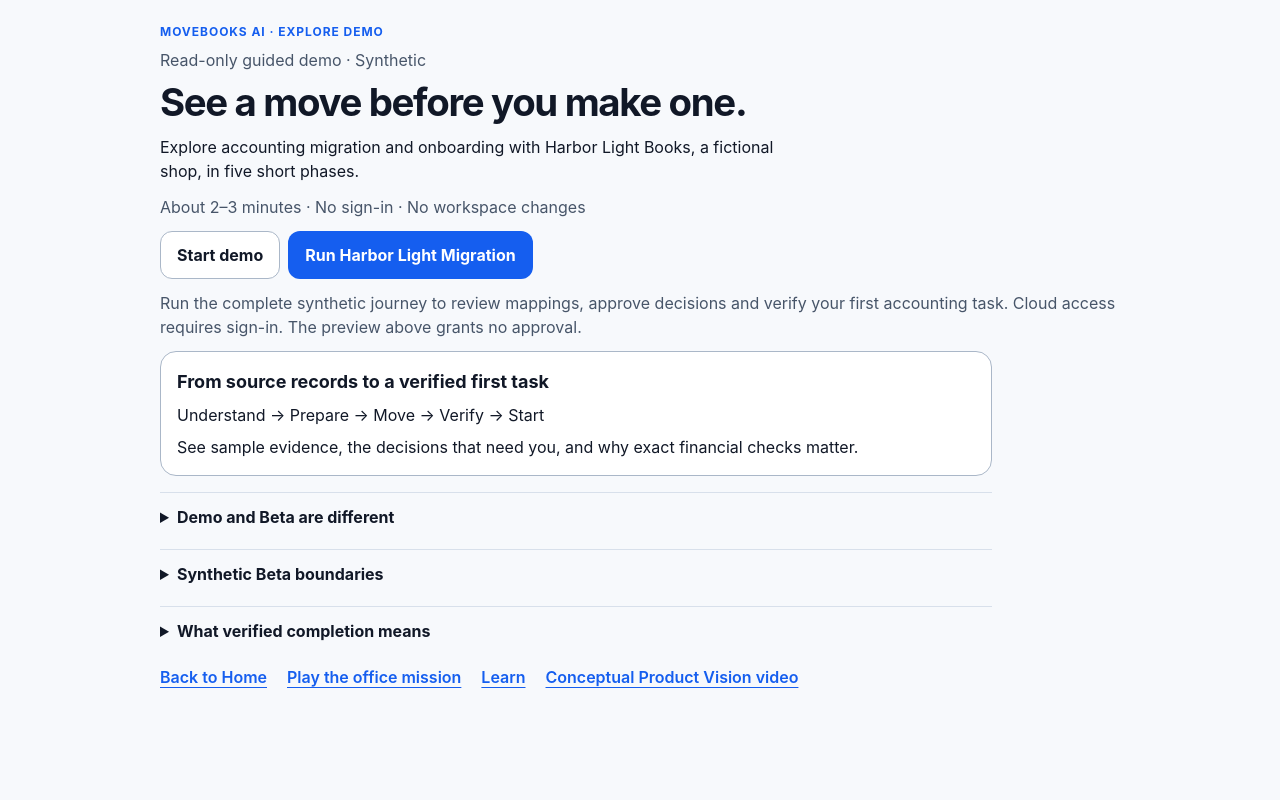
it: PR03 authored public Demo › labels authored amounts and separates controls from AI advice
The width and height of the screenshot is (1280, 800).
Click the button "Start demo": (220, 255) [160,231,280,279]
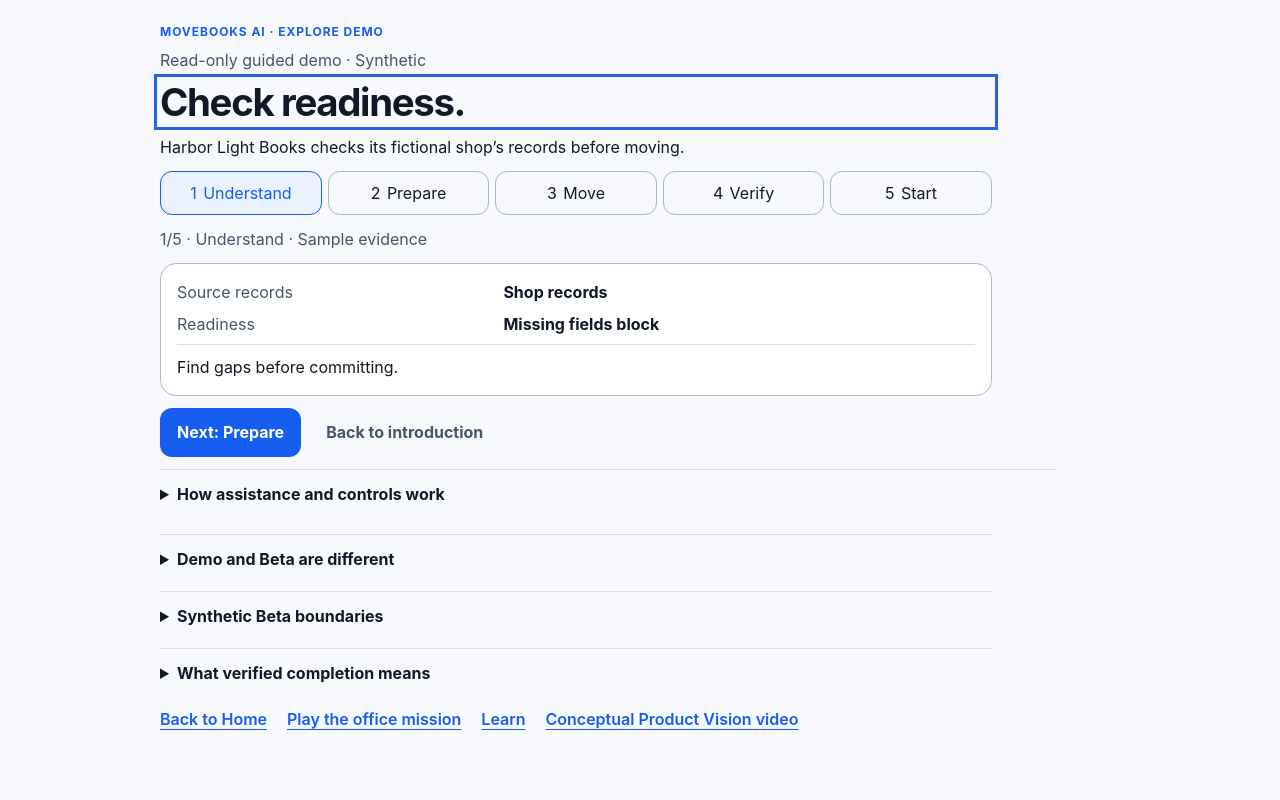
Click the button with aria-label "Preview Verify, phase 4 of 5": (743, 193) [662,171,824,215]
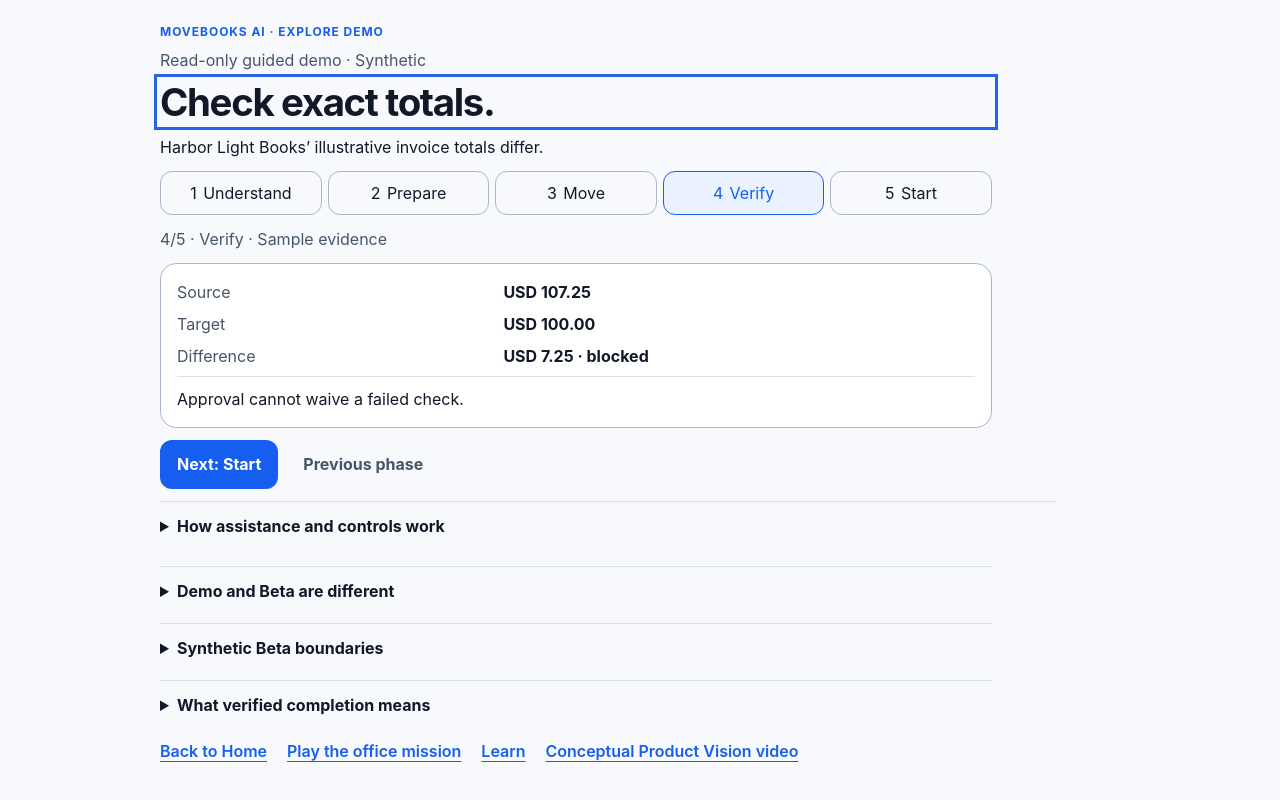
Expected: the text "4/5 · Verify · Sample evidence" is shown, [160,229,387,249]
Expected: the text "USD 7.25 · blocked" is shown, [503,346,649,366]
Click the heading "How assistance and controls work": (311, 526) [177,516,445,536]
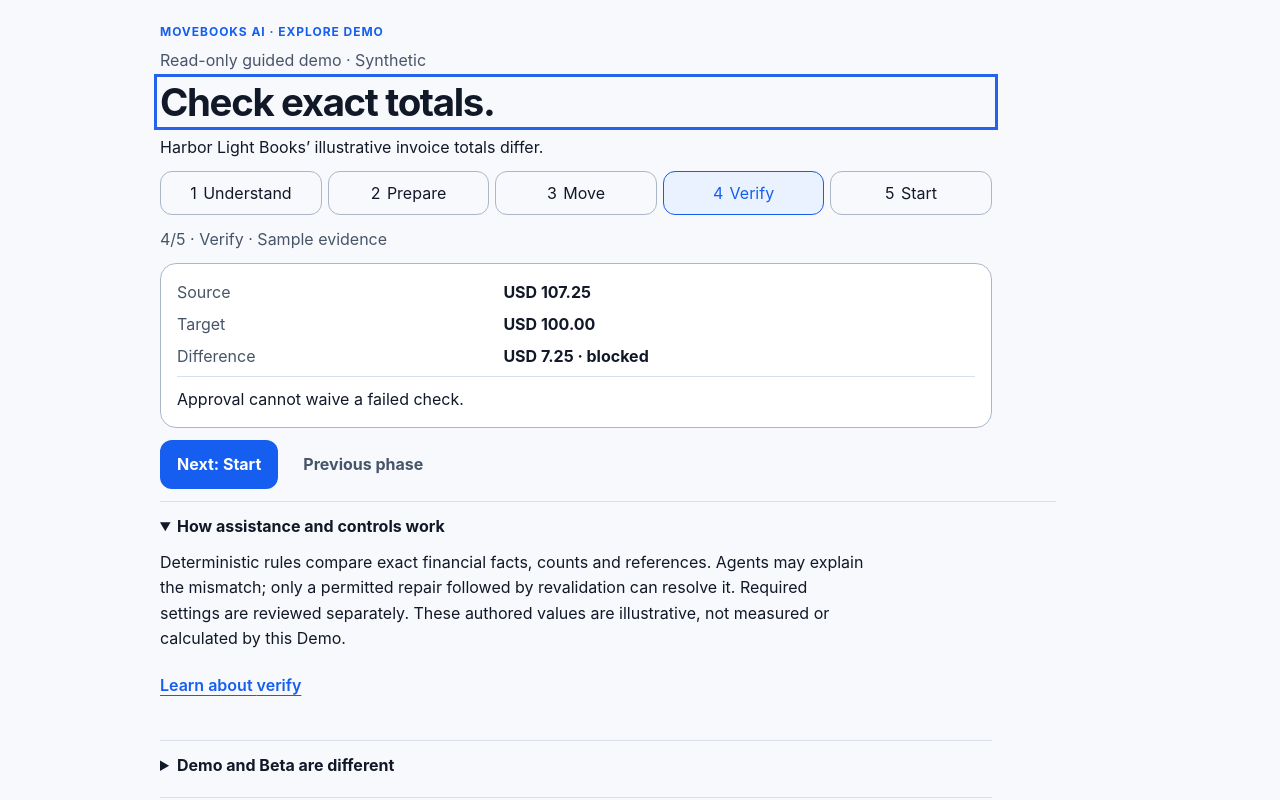
Expected: the text "not measured or calculated by this Demo" is shown, [160,552,863,648]
Click the button with aria-label "Preview Prepare, phase 2 of 5": (408, 193) [328,171,489,215]
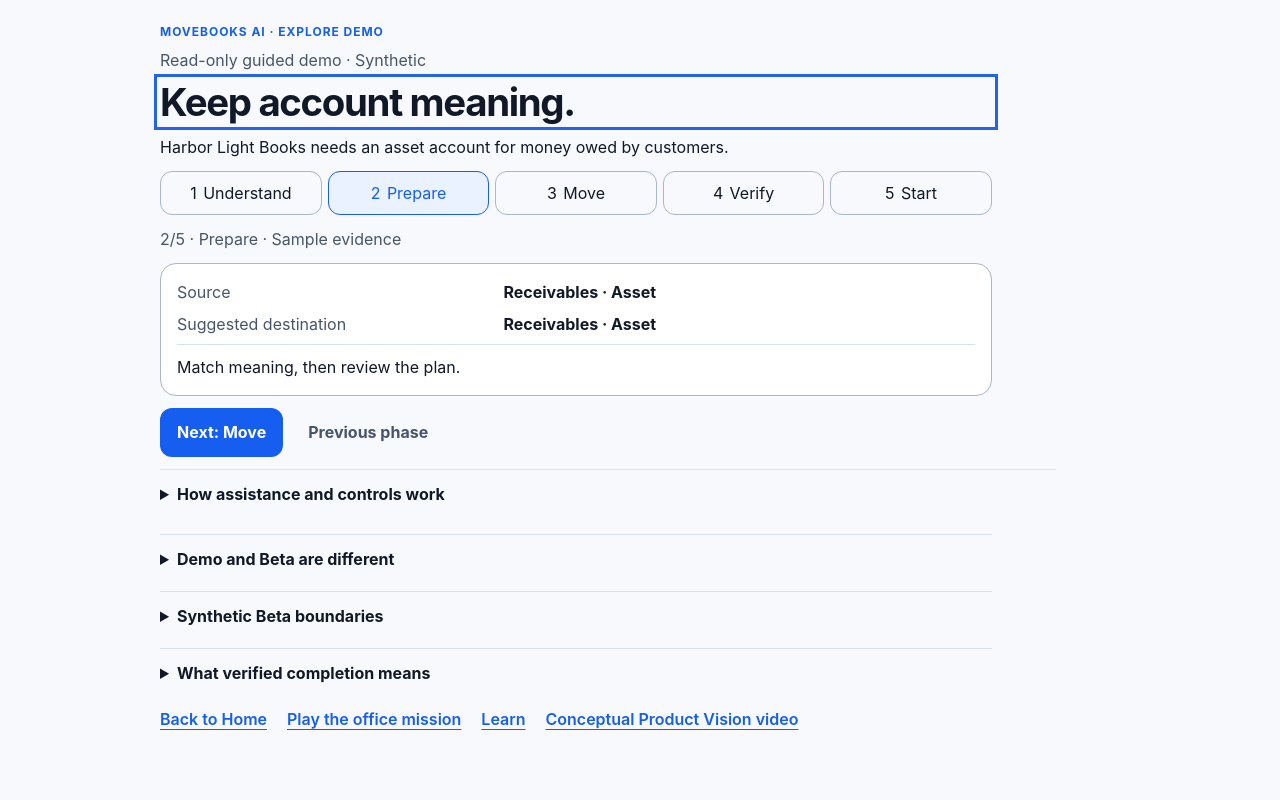
Click the heading "How assistance and controls work": (311, 494) [177,484,445,504]
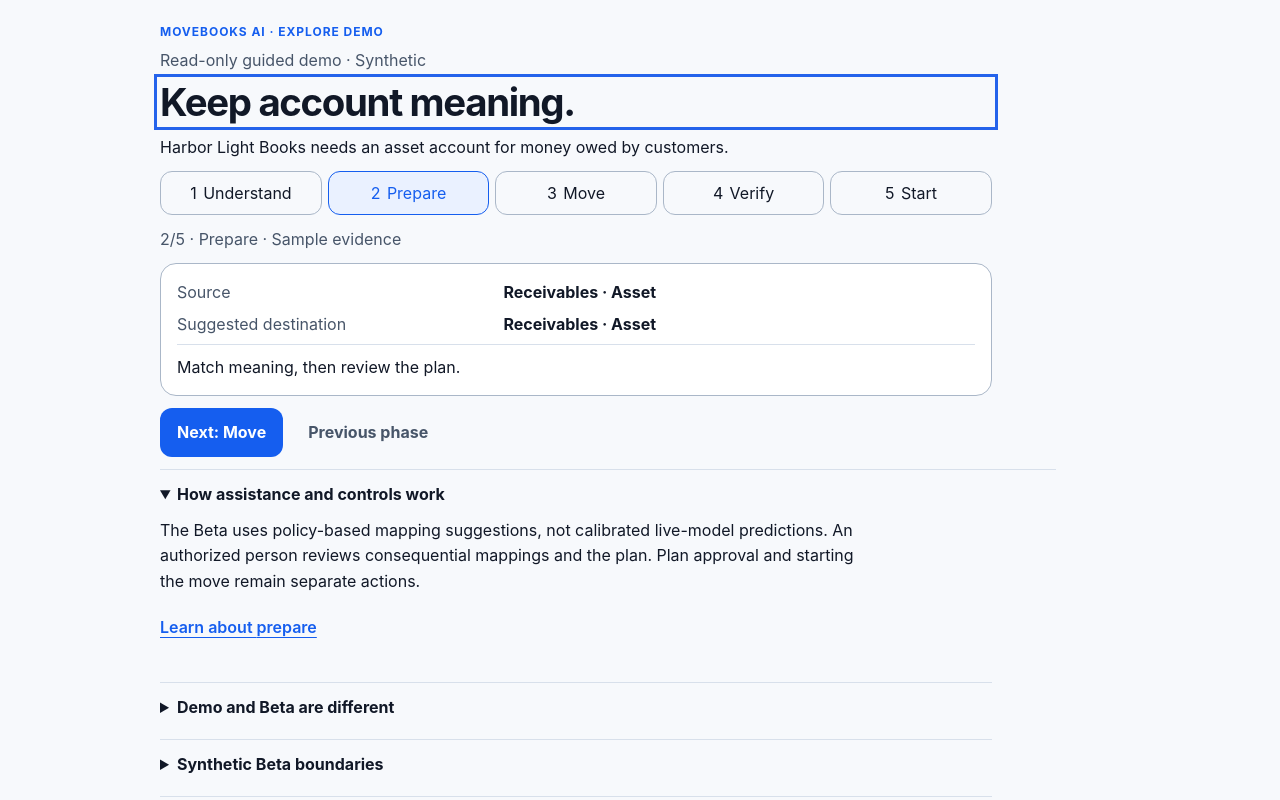
Expected: the text "not calibrated live-model predictions" is shown, [160,520,854,591]
